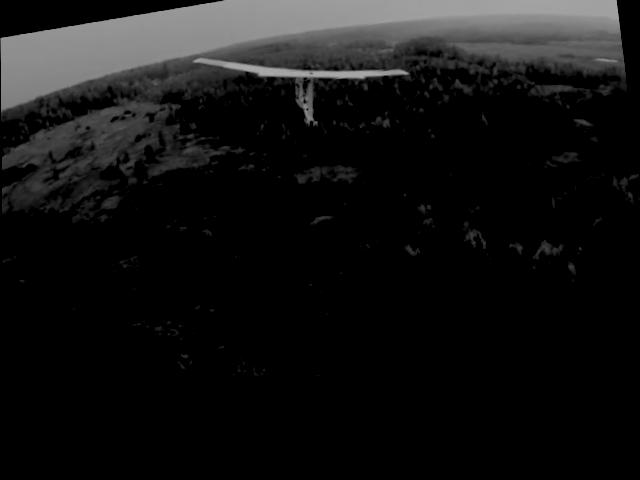hedef: (189, 17, 419, 151)
